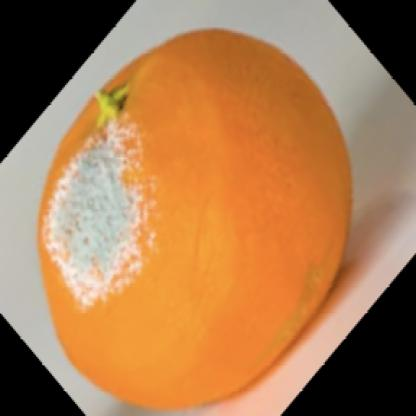rotten: (39, 31, 355, 410)
